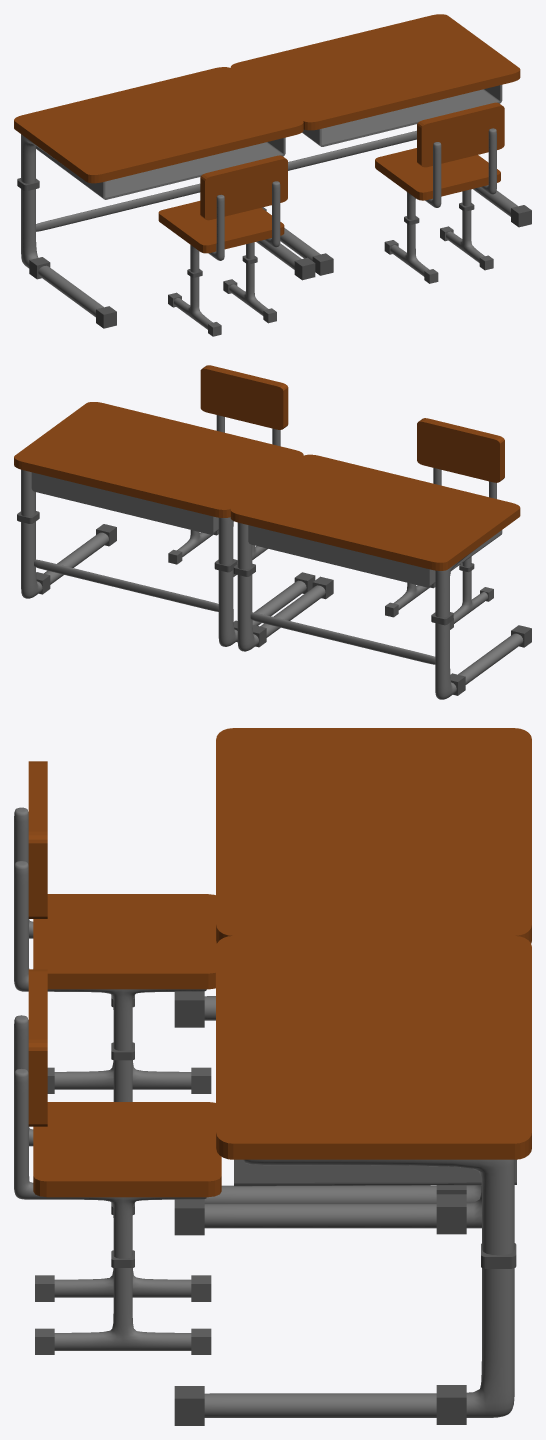
Rendered from table_and_chair1.fbx.
3 views of the same model, one above another, from view 1: azimuth 30°, elevation 25°; view 2: azimuth 150°, elevation 25°; view 3: azimuth 270°, elevation 25° (orthographic). The views are drawn at different scales.
Parts seen in each view (by area): view 1: Cube.351; view 2: Cube.351; view 3: Cube.351.
Part boxes in pixels (bbox=[...]): Cube.351: bbox=[14, 14, 531, 336]; Cube.351: bbox=[14, 365, 531, 699]; Cube.351: bbox=[14, 728, 531, 1425].
Size of the model in its own units: 209 by 74.62 by 110.
